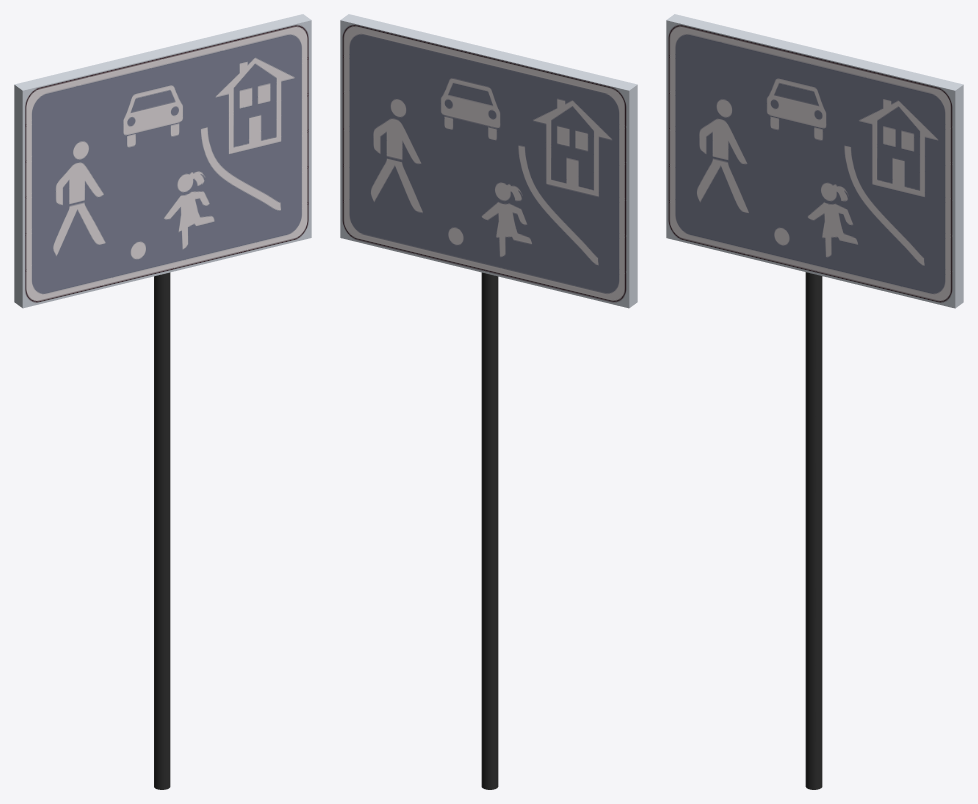
Rendered from schild_kinder_rechteckig.FBX.
3 renders of one model, left to right at view 1: azimuth 30°, elevation 25°; view 2: azimuth 150°, elevation 25°; view 3: azimuth 330°, elevation 25°, orthographic.
Visible parts, largest first — view 1: schild_rechteckig, schildständer; view 2: schild_rechteckig, schildständer; view 3: schild_rechteckig, schildständer.
Boxes of the visible parts, x1,y1,x2,y2 form: schild_rechteckig: [14, 14, 311, 308]; schildständer: [154, 272, 170, 789]; schild_rechteckig: [340, 14, 637, 308]; schildständer: [481, 272, 498, 789]; schild_rechteckig: [666, 14, 963, 308]; schildständer: [805, 272, 822, 789].
Size of the model in its own units: 15.36 by 0.7853 by 37.27.
Materials: 2 (1 with a texture image).
